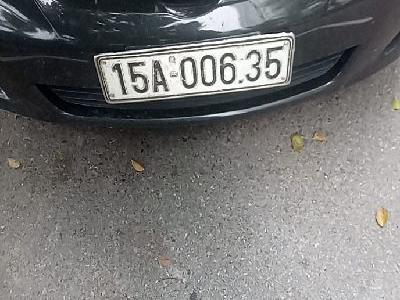lisence: (92, 33, 295, 106)
